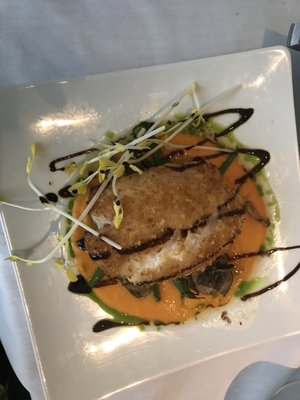soup: (28, 61, 299, 328)
